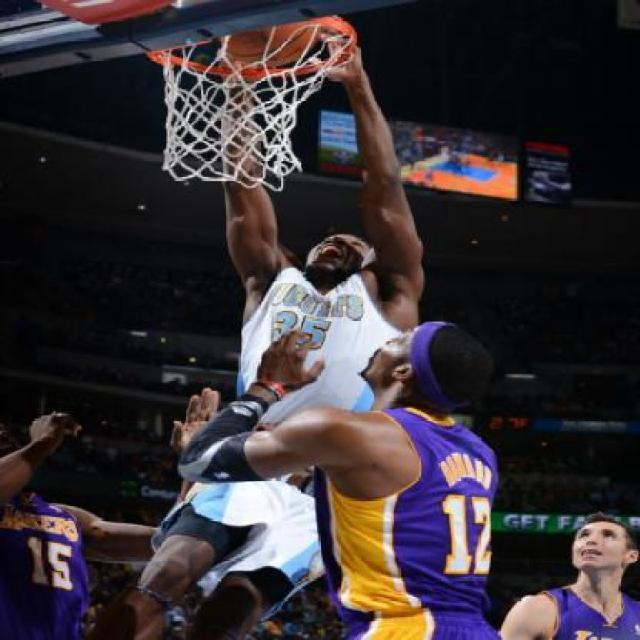rim: (147, 10, 360, 194)
